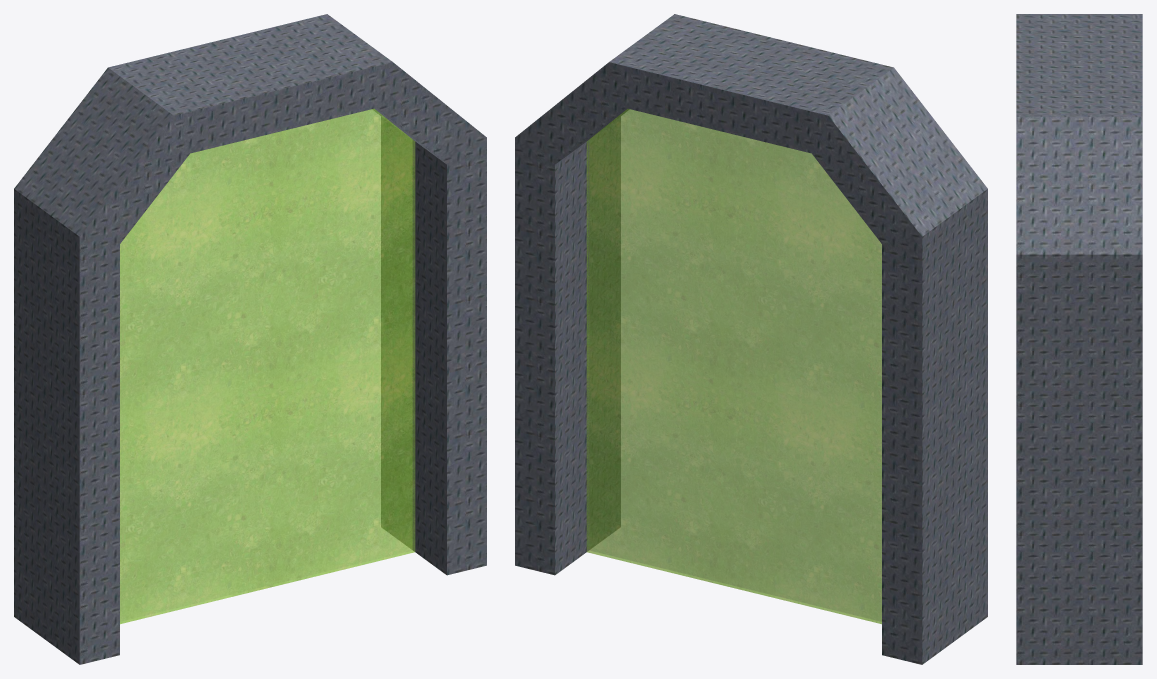
Rendered from portal.fbx.
3 renders of one model, left to right at view 1: azimuth 30°, elevation 25°; view 2: azimuth 150°, elevation 25°; view 3: azimuth 270°, elevation 25°, orthographic. The views are drawn at different scales.
Visible parts, largest first — view 1: frame1, portal1; view 2: frame1, portal1; view 3: frame1.
Boxes of the visible parts, <box> form: frame1: <box>14,14,486,664</box>; portal1: <box>120,108,415,624</box>; frame1: <box>515,14,987,664</box>; portal1: <box>586,108,881,624</box>; frame1: <box>1016,14,1142,664</box>.
Size of the model in its own units: 1.93 by 2.39 by 0.54.
